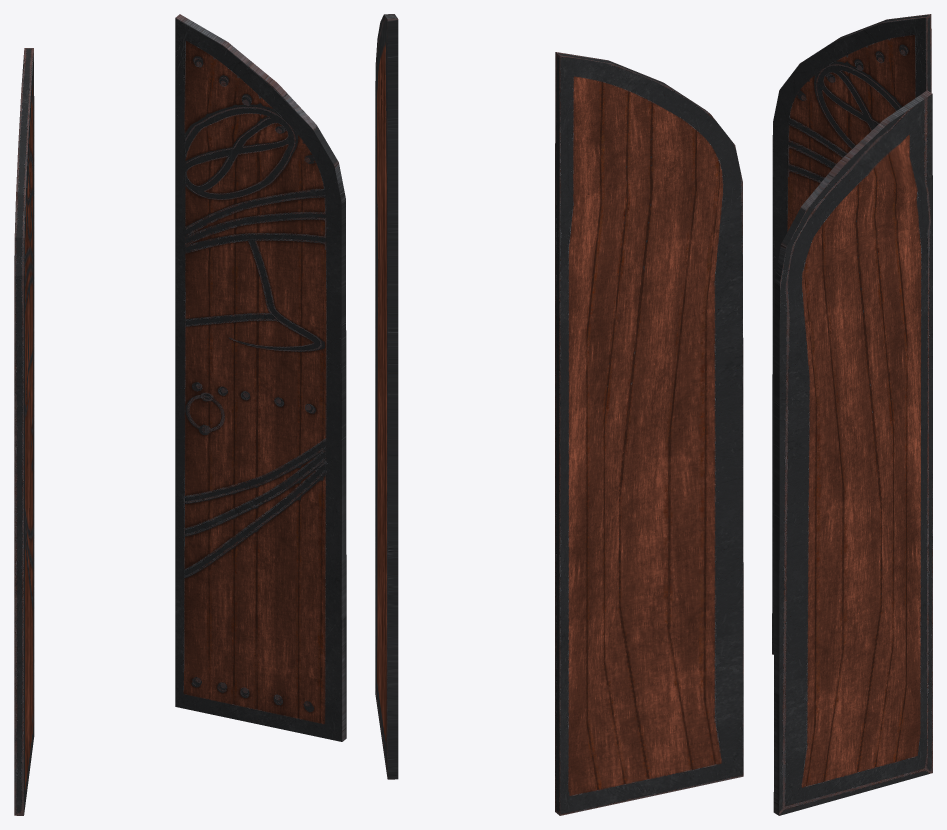
The model's file is DoorOpen.fbx.
The picture shows the model from 3 angles, left to right: view 1: azimuth 30°, elevation 25°; view 2: azimuth 150°, elevation 25°; view 3: azimuth 270°, elevation 25°; orthographic projection. The views are drawn at different scales.
Visible parts, largest first — view 1: Entrance doorLOW, Entrance doorLOW.001; view 2: Entrance doorLOW.001, Entrance doorLOW; view 3: Entrance doorLOW, Entrance doorLOW.001.
Part boxes in pixels (x1,y1,x2,y2): Entrance doorLOW: (175,14,346,741); Entrance doorLOW.001: (14,48,34,815); Entrance doorLOW.001: (555,52,743,815); Entrance doorLOW: (375,14,398,779); Entrance doorLOW: (773,90,932,815); Entrance doorLOW.001: (772,14,931,654).
Size of the model in its own units: 209 by 416 by 88.58.
